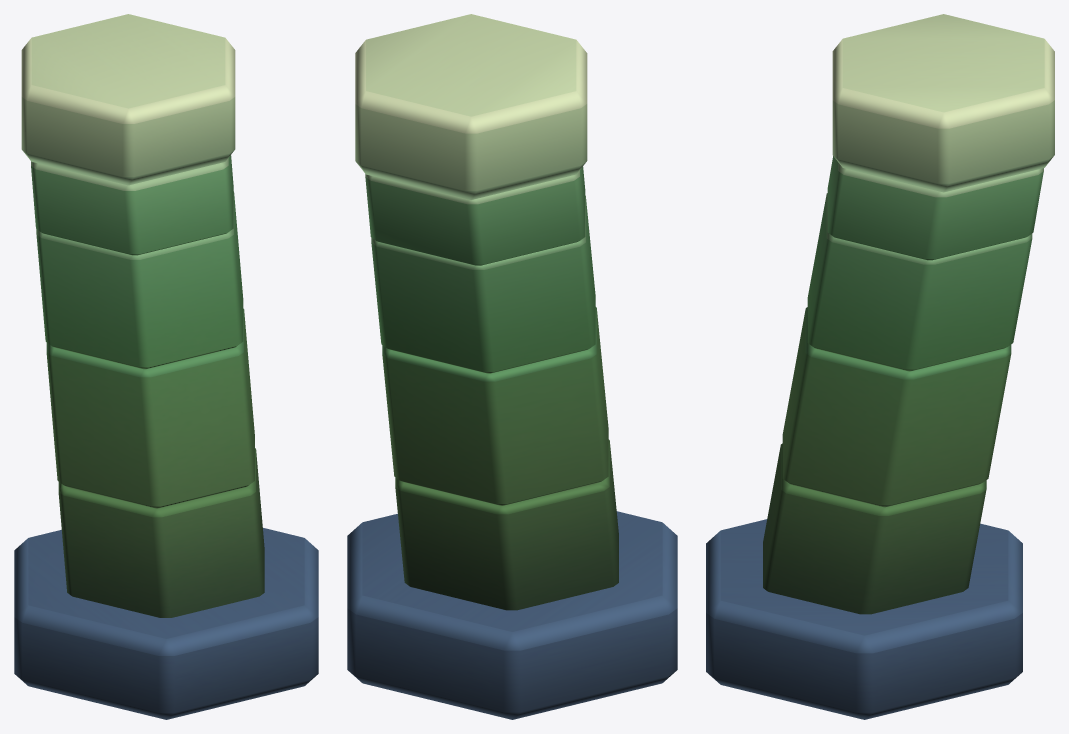
The model's file is pillar_wall.fbx.
The picture shows the model from 3 angles, left to right: view 1: azimuth 30°, elevation 25°; view 2: azimuth 150°, elevation 25°; view 3: azimuth 270°, elevation 25°; orthographic projection. The views are drawn at different scales.
Visible parts, largest first — view 1: pillar_wall; view 2: pillar_wall; view 3: pillar_wall.
Boxes of the visible parts, x1,y1,x2,y2 form: pillar_wall: (14, 14, 318, 719); pillar_wall: (347, 14, 677, 719); pillar_wall: (706, 14, 1054, 719).
Bounding box in the file's own units: 225 × 409 × 220.
